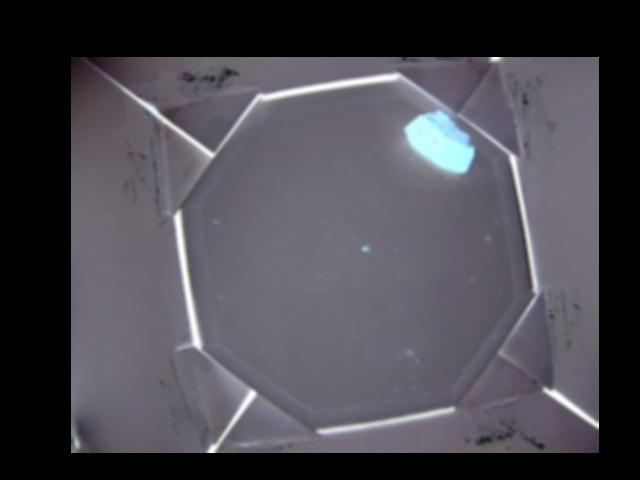Brisk: (401, 106, 476, 175)
